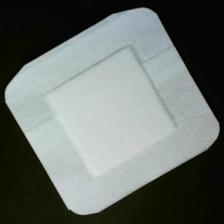Dressing: (4, 8, 221, 218)
